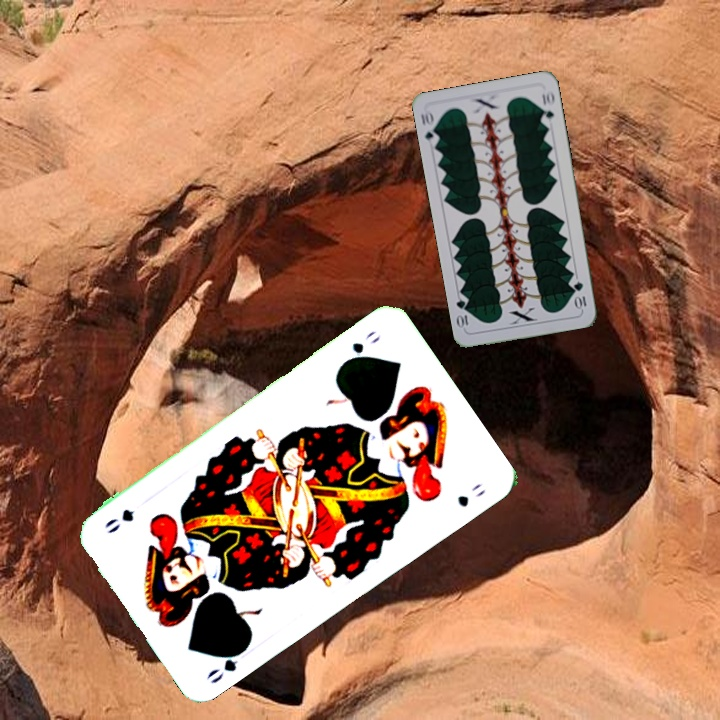G10: (416, 106, 441, 147), (570, 278, 589, 312)
GO: (202, 641, 252, 686), (338, 326, 383, 367)
